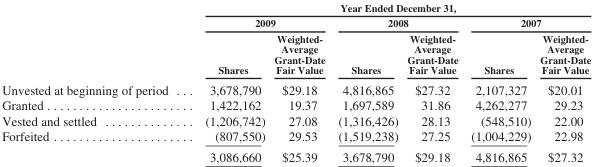table: (1, 1, 590, 163)
table column: (1, 1, 186, 163), (186, 1, 269, 163), (331, 1, 402, 163), (463, 1, 534, 163), (269, 1, 331, 163), (402, 1, 463, 163), (534, 1, 590, 163)
table column header: (1, 1, 590, 78)
table row: (1, 30, 590, 78), (1, 127, 590, 146), (1, 78, 590, 96), (1, 146, 590, 163), (1, 96, 590, 112), (1, 15, 590, 30), (1, 112, 590, 127), (1, 1, 590, 15)
table spanning cell: (186, 1, 590, 15), (186, 15, 331, 30), (331, 15, 463, 30), (463, 15, 590, 30)
